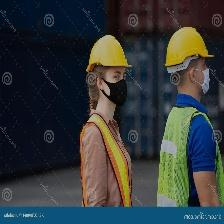Person: (153, 17, 222, 207), (75, 19, 141, 207)
helmet: (163, 25, 216, 72), (83, 31, 131, 73)
vest: (166, 103, 217, 208), (81, 116, 130, 206)
